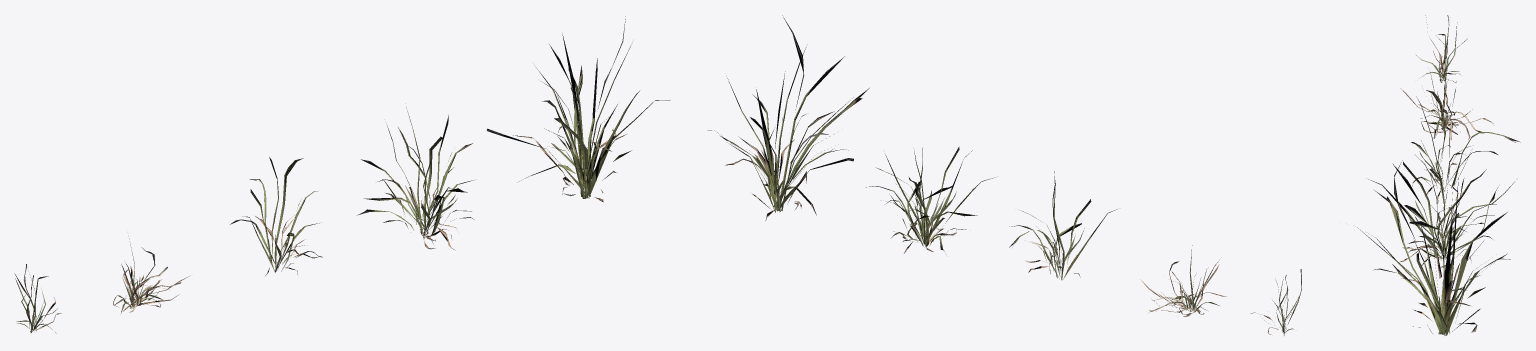
Rendered from grass_medium_02.glb.
The picture shows the model from 3 angles, left to right: view 1: azimuth 30°, elevation 25°; view 2: azimuth 150°, elevation 25°; view 3: azimuth 270°, elevation 25°; orthographic projection. The views are drawn at different scales.
Parts seen in each view (by area): view 1: grass_medium_02_e, grass_medium_02_d, grass_medium_02_c, grass_medium_02_b, grass_medium_02_a; view 2: grass_medium_02_e, grass_medium_02_d, grass_medium_02_c, grass_medium_02_b; view 3: grass_medium_02_e, grass_medium_02_d, grass_medium_02_c, grass_medium_02_b, grass_medium_02_a.
Part boxes in pixels (<box>): grass_medium_02_e: <box>486,16,670,202</box>; grass_medium_02_d: <box>357,108,473,250</box>; grass_medium_02_c: <box>230,157,322,275</box>; grass_medium_02_b: <box>113,236,190,313</box>; grass_medium_02_a: <box>14,264,61,333</box>; grass_medium_02_e: <box>707,15,869,220</box>; grass_medium_02_d: <box>866,147,995,253</box>; grass_medium_02_c: <box>1009,171,1117,280</box>; grass_medium_02_b: <box>1140,245,1226,316</box>; grass_medium_02_e: <box>1357,160,1510,335</box>; grass_medium_02_d: <box>1368,152,1514,267</box>; grass_medium_02_c: <box>1411,89,1520,204</box>; grass_medium_02_b: <box>1400,58,1494,140</box>; grass_medium_02_a: <box>1416,15,1467,82</box>.
Size of the model in its own units: 1.25 by 0.377 by 0.3539.
Materials: 1 (1 with a texture image).
